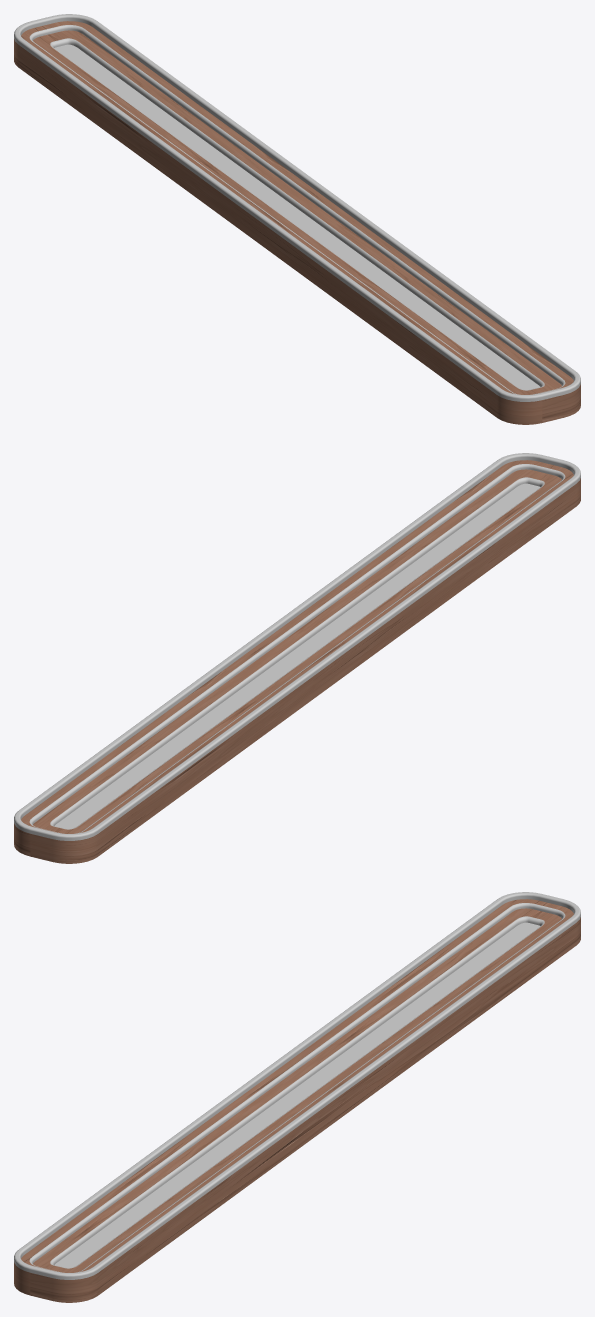
File: SM_Track.fbx
The picture shows the model from 3 angles, top to bottom: view 1: azimuth 30°, elevation 25°; view 2: azimuth 150°, elevation 25°; view 3: azimuth 330°, elevation 25°; orthographic projection.
Visible parts, largest first — view 1: SM_Track; view 2: SM_Track; view 3: SM_Track.
Boxes of the visible parts, left/top/right/bottom form: SM_Track: left=14, top=14, right=580, bottom=424; SM_Track: left=14, top=453, right=580, bottom=863; SM_Track: left=14, top=892, right=580, bottom=1302.
Size of the model in its own units: 89.68 by 1000 by 29.91.
Materials: 2 (1 with a texture image).
